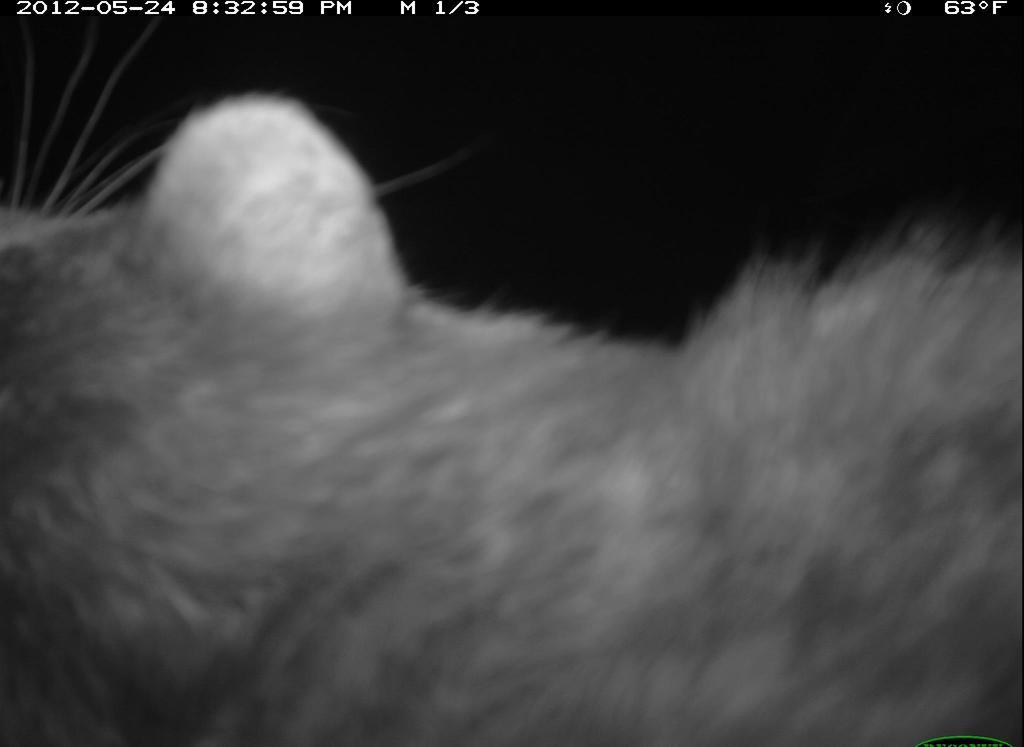raccoon: (3, 94, 1021, 747)
